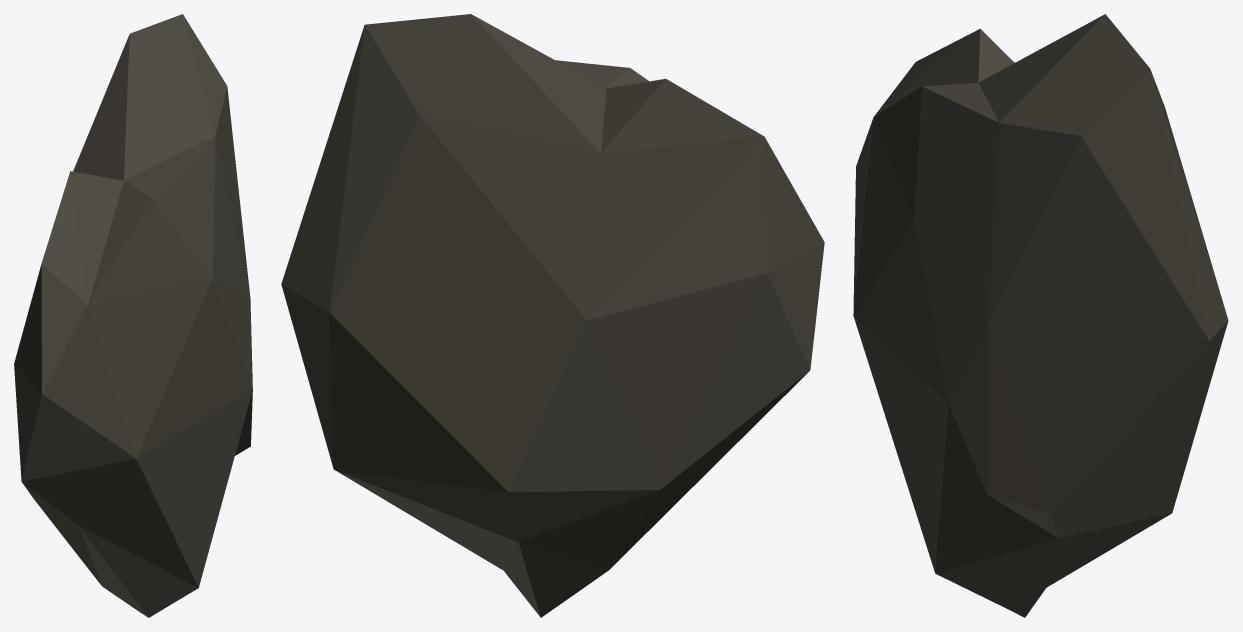
File: LargeBoulder2.FBX
3 renders of one model, left to right at view 1: azimuth 30°, elevation 25°; view 2: azimuth 150°, elevation 25°; view 3: azimuth 270°, elevation 25°, orthographic. The views are drawn at different scales.
Visible parts, largest first — view 1: LargeBoulder002; view 2: LargeBoulder002; view 3: LargeBoulder002.
Part boxes in pixels (box(x1,y1,x2,y2)): LargeBoulder002: box(14, 14, 252, 617); LargeBoulder002: box(281, 14, 824, 617); LargeBoulder002: box(853, 14, 1228, 617).
Size of the model in its own units: 50.36 by 81.78 by 44.99.
